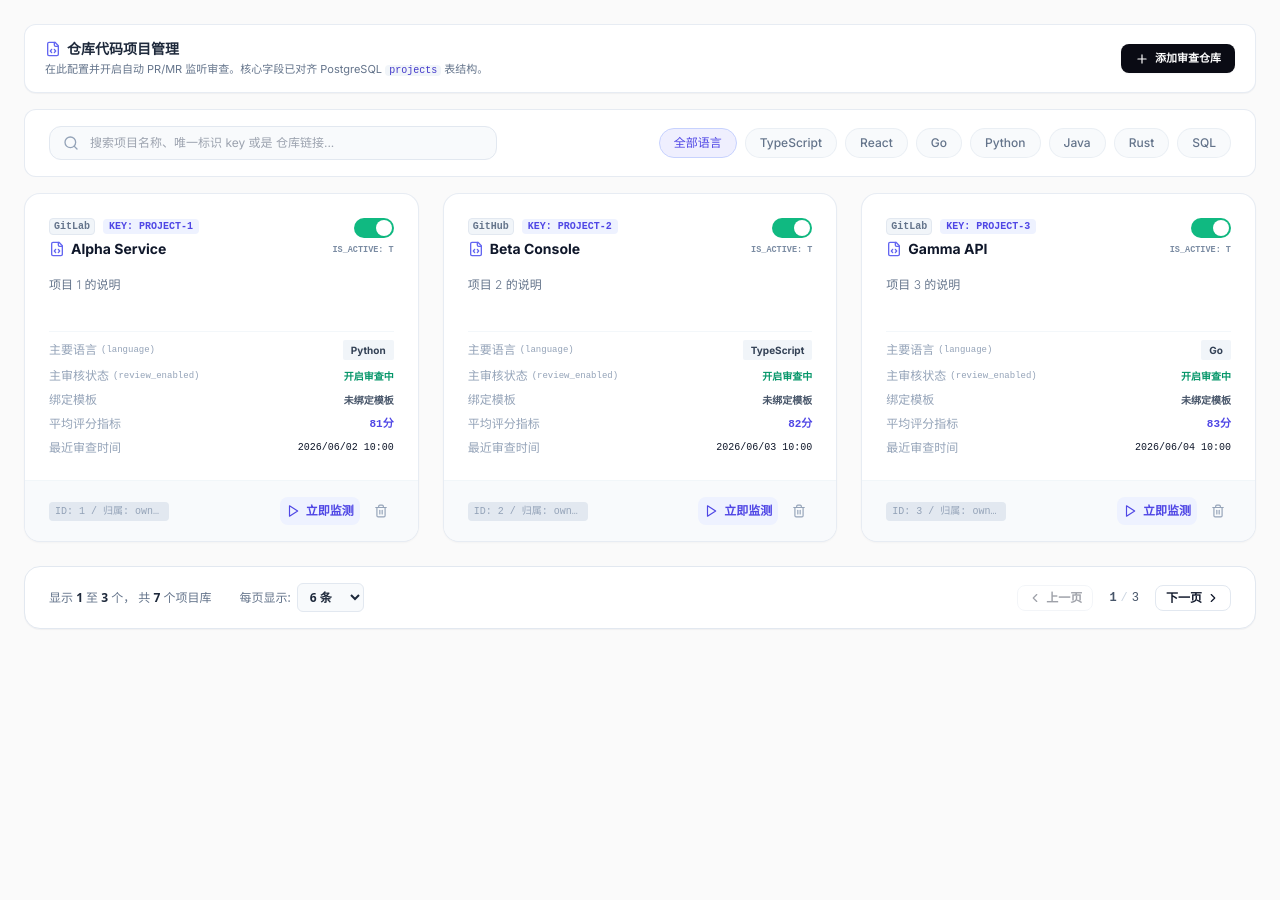
Scenario: uses server-backed search, language filters, and pagination
Check: the text "Alpha Service" is shown, box [71,239,166,259]
Click the button "下一页" at coordinates (1193, 598), box [1155,584,1231,610]
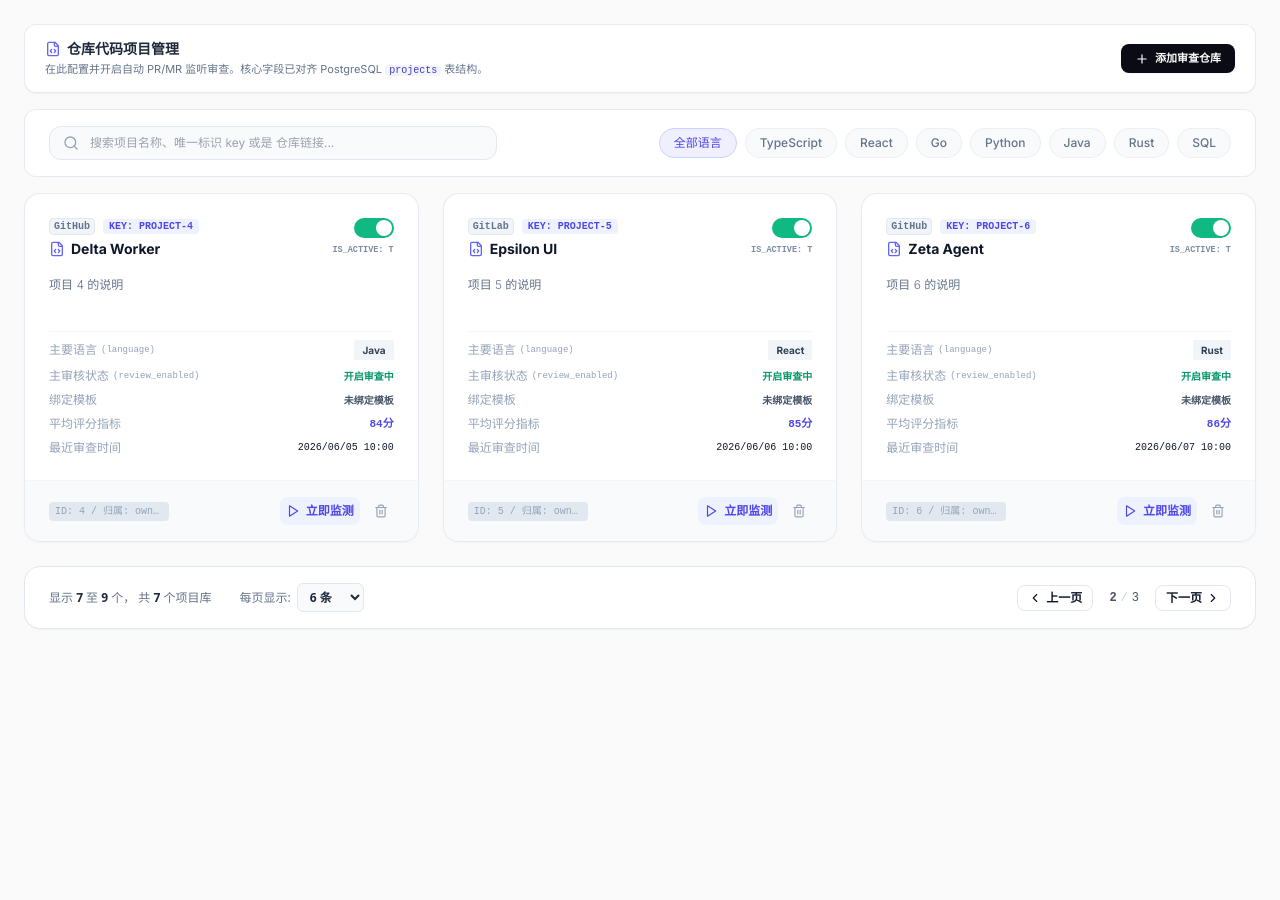
Check: the text "Delta Worker" is shown, box [71,239,160,259]
Click the button "Python" at coordinates (1005, 143), box [970,128,1040,158]
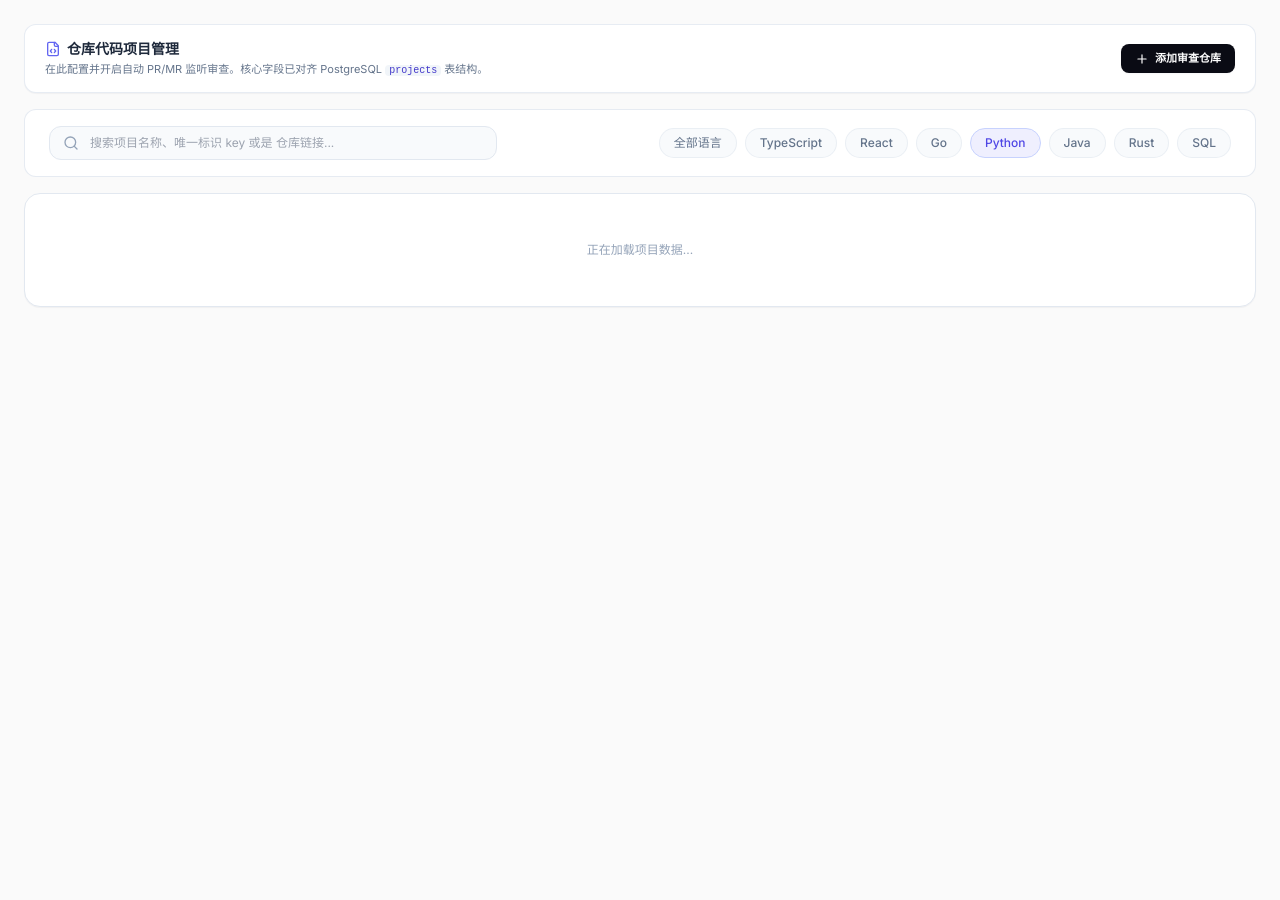
Type "Omega" into the field with placeholder "搜索项目名称、唯一标识 key 或是 仓库链接..." at coordinates (273, 143), box [49,126,497,160]
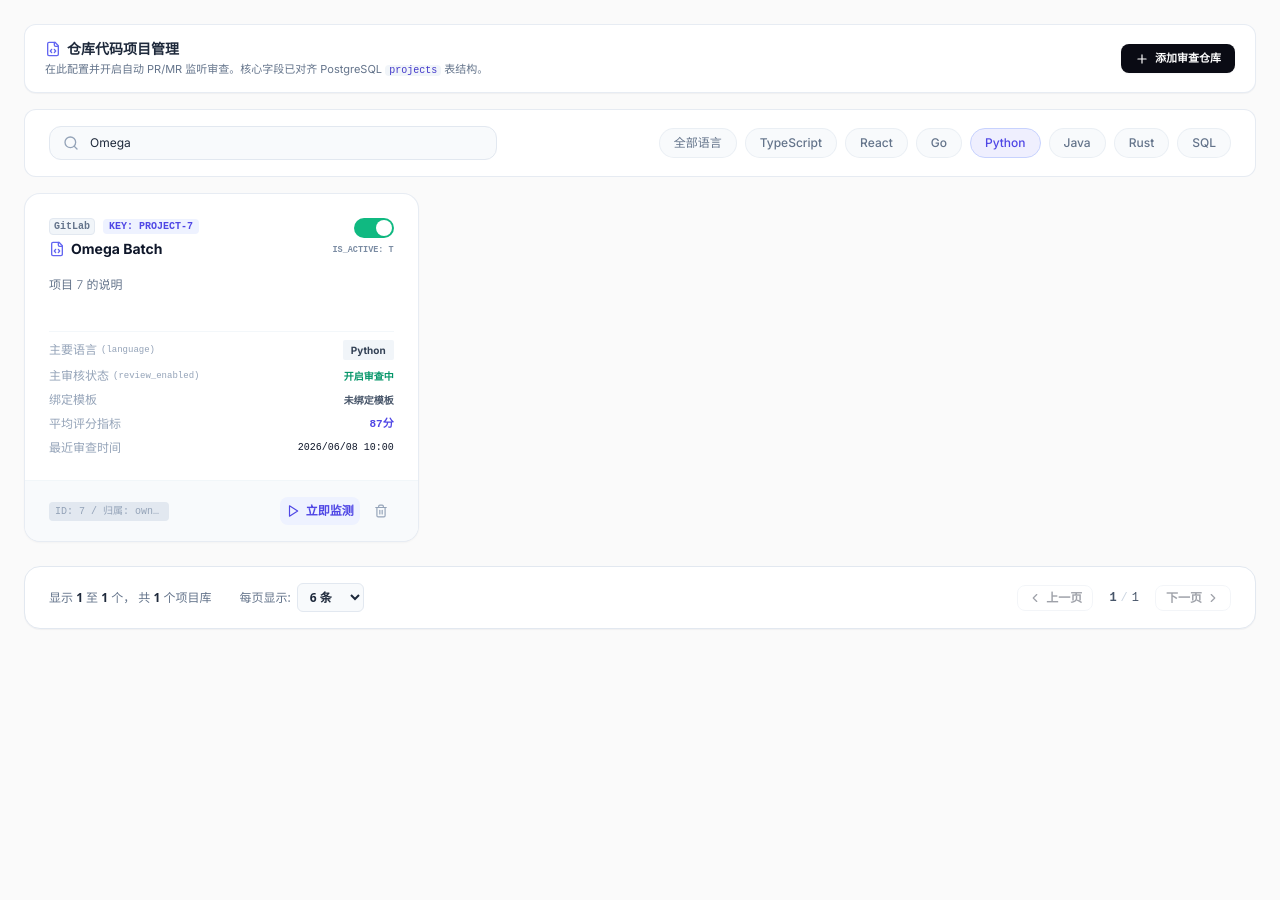
Check: the text "Omega Batch" is shown, box [71,239,162,259]
